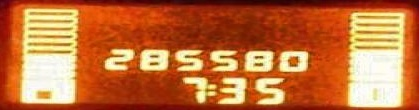0: (276, 50, 307, 71)
2: (101, 48, 133, 69)
3: (216, 76, 246, 104)
5: (253, 77, 283, 105), (208, 48, 238, 71), (173, 48, 203, 70)
7: (179, 76, 208, 104)
8: (136, 47, 168, 70), (241, 49, 273, 71)
X: (204, 83, 216, 96)
